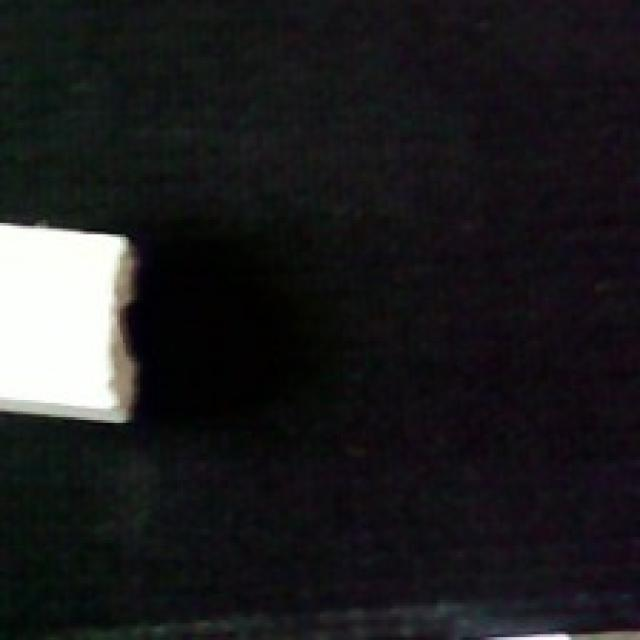defected: (0, 211, 149, 426)
